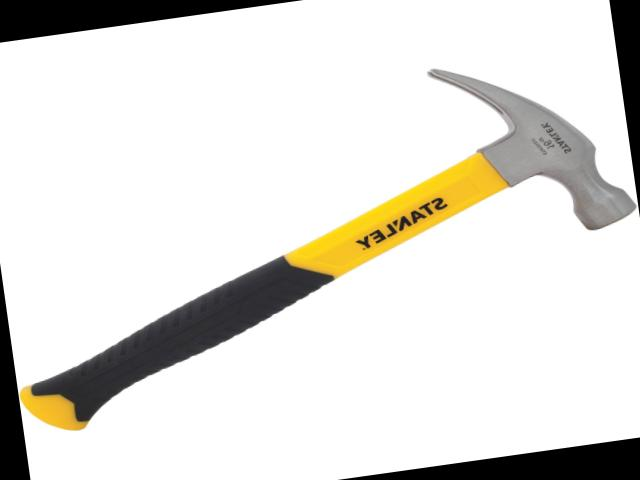hammer: (0, 44, 640, 440)
